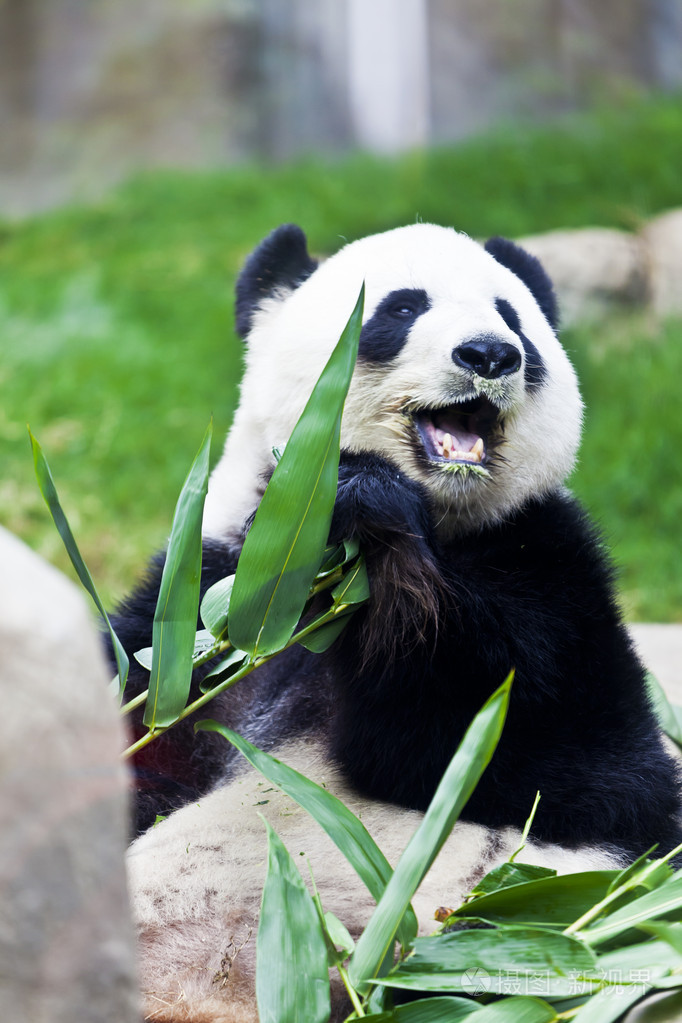panda: (108, 193, 676, 1002)
